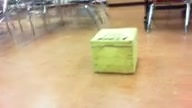cube: (90, 28, 137, 75)
